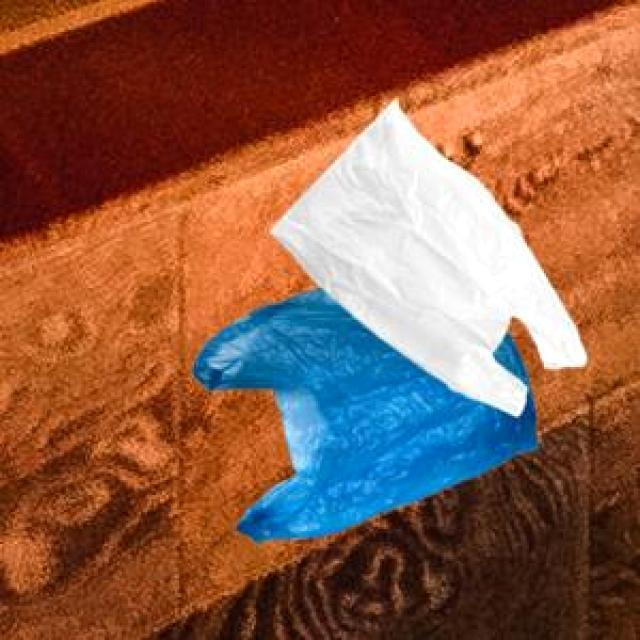Plastic_Bag: (267, 97, 584, 413), (190, 285, 534, 541)
